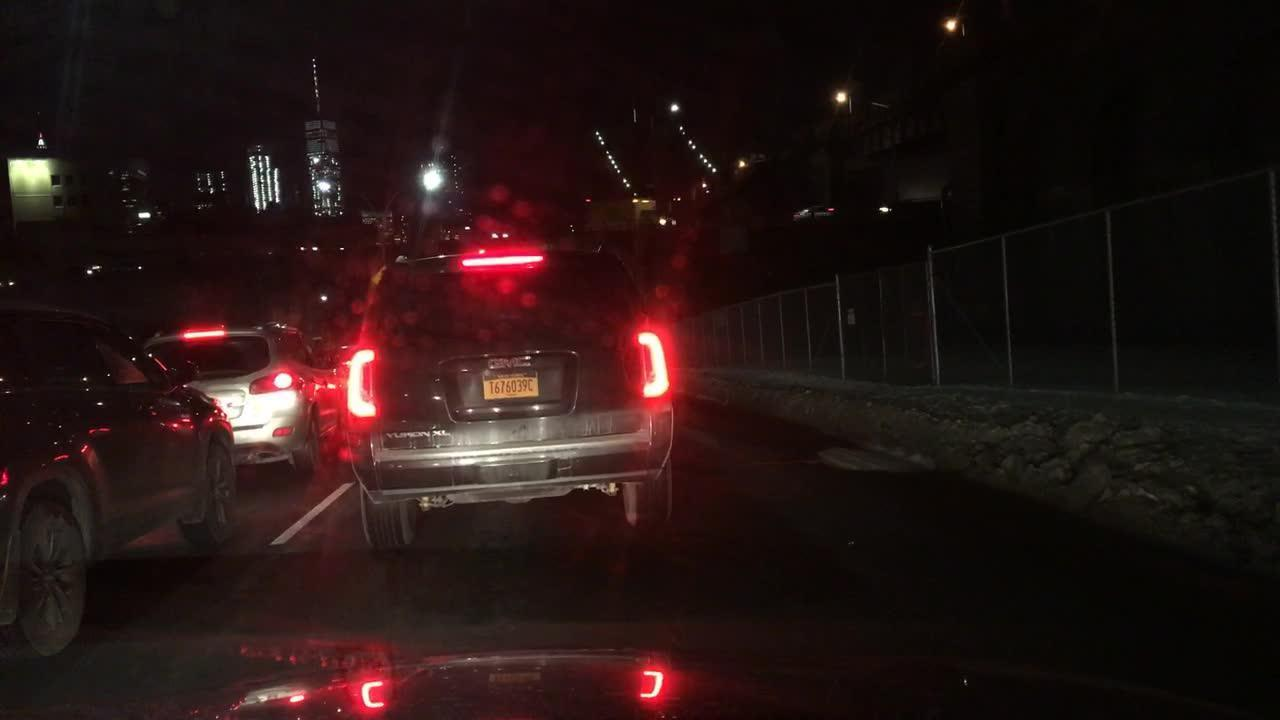GMC: (482, 346, 540, 383)
